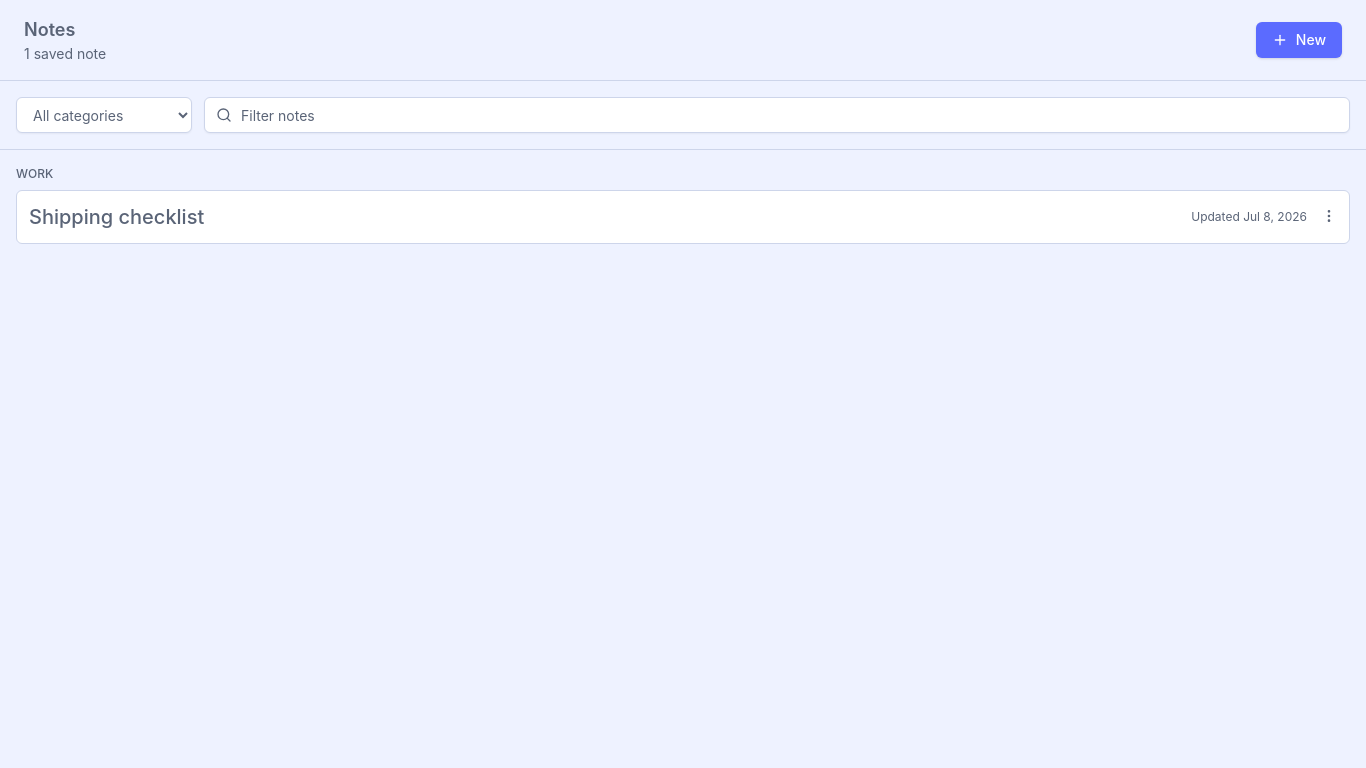
Test: NotesListView › shows a placeholder in the detail view when a note has no body
Click the button named "Actions for Shipping checklist".
click(1329, 216)  # box [1315,202,1343,230]
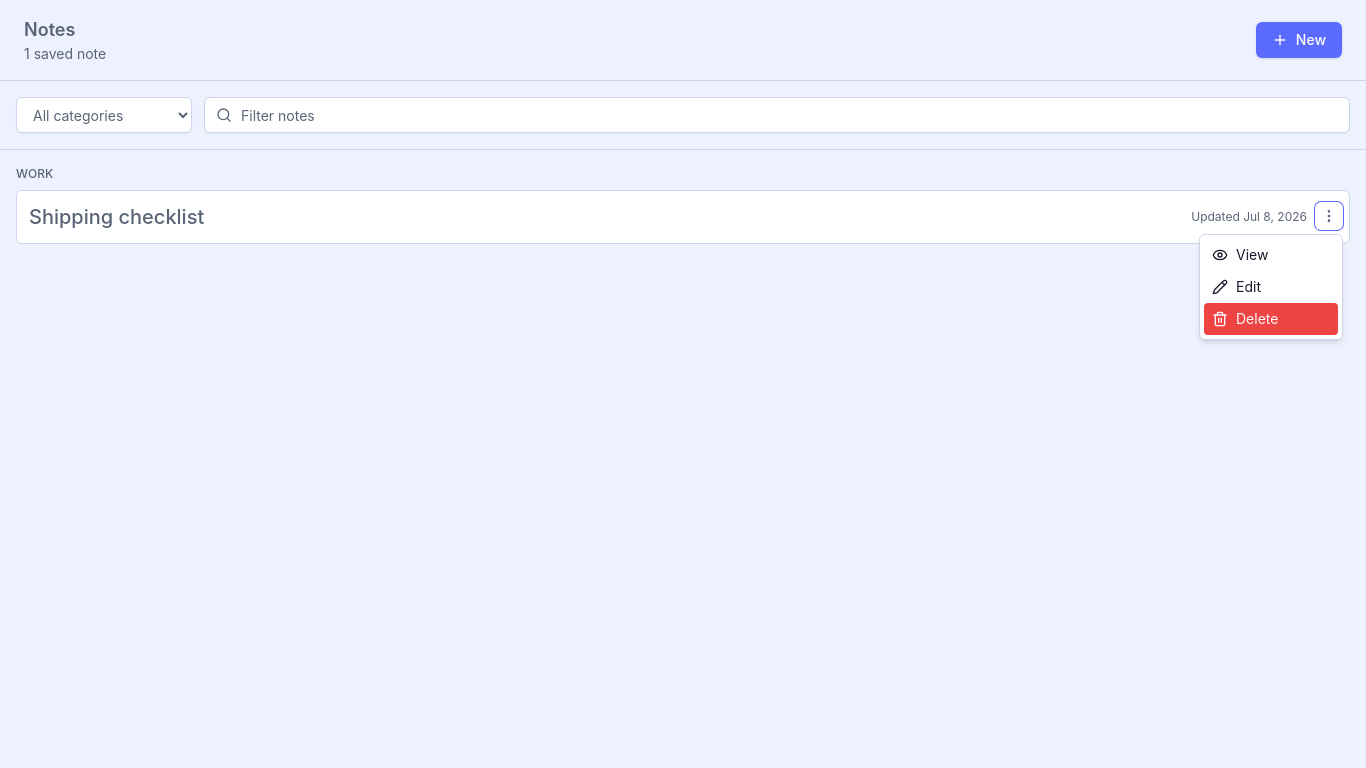
Click the menu item "View".
click(1271, 255)  # box [1204,239,1338,271]
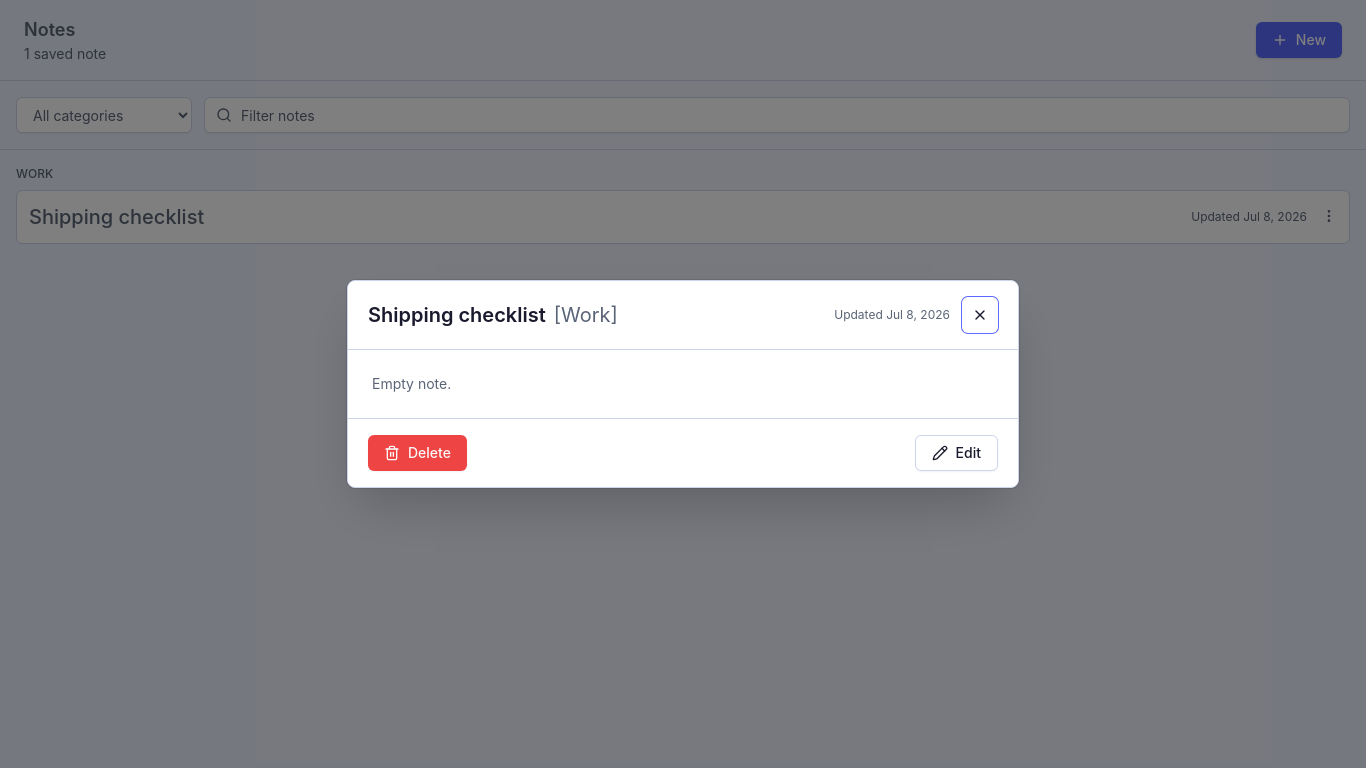
expect the text "Empty note." is shown: met, box [372,375,451,392]
